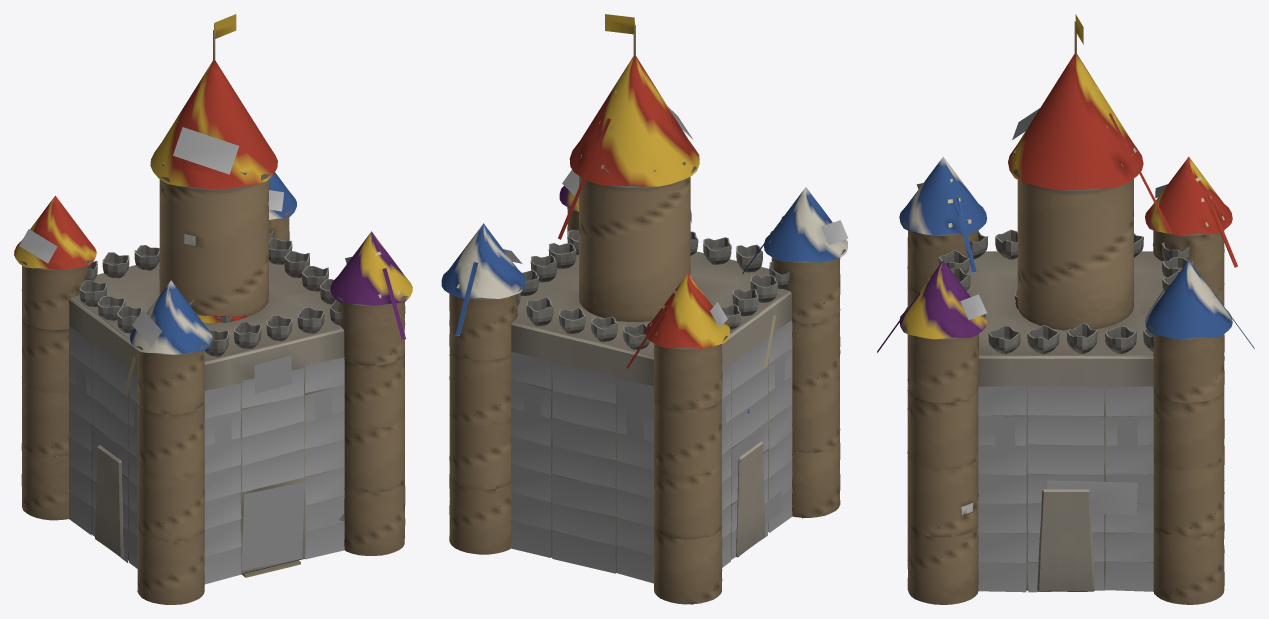
Rendered from castle.glb.
The picture shows the model from 3 angles, left to right: view 1: azimuth 30°, elevation 25°; view 2: azimuth 150°, elevation 25°; view 3: azimuth 270°, elevation 25°; orthographic projection. The views are drawn at different scales.
Parts seen in each view (by area): view 1: keep, wall_long; view 2: keep, wall_long; view 3: keep, wall_long.
Part boxes in pixels (box(x1,y1,x2,y2)): keep: box(14, 14, 412, 604); wall_long: box(95, 445, 123, 558); keep: box(441, 14, 848, 604); wall_long: box(736, 441, 765, 557); keep: box(877, 14, 1254, 604); wall_long: box(1037, 489, 1094, 591).
Bounding box in the file's own units: 5.16 × 9.05 × 5.85.
